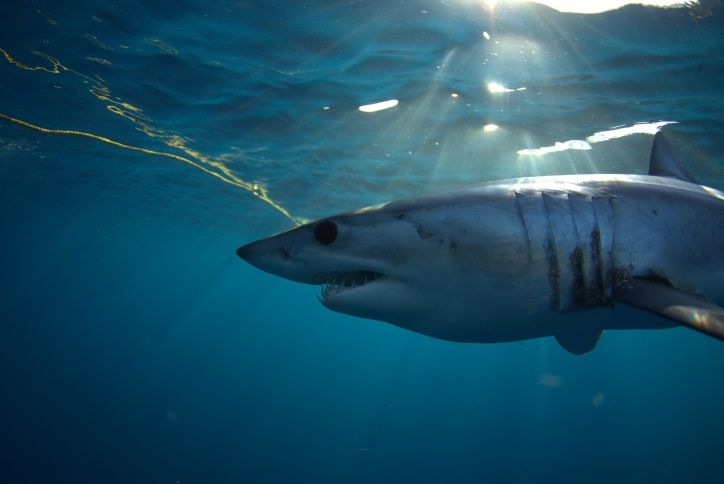Mako: (225, 129, 724, 379)
